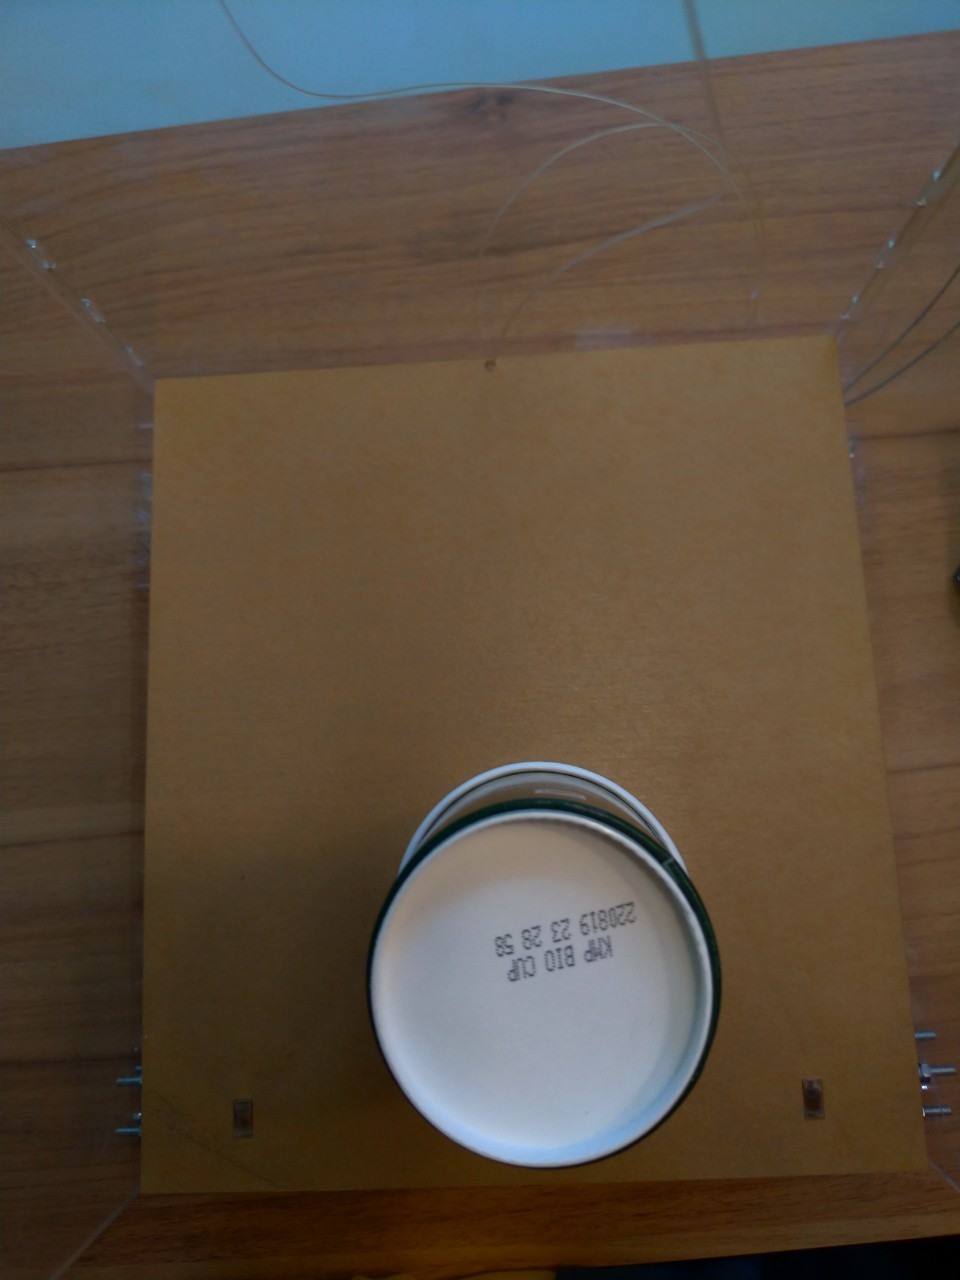PaperCup: (367, 763, 724, 1166)
